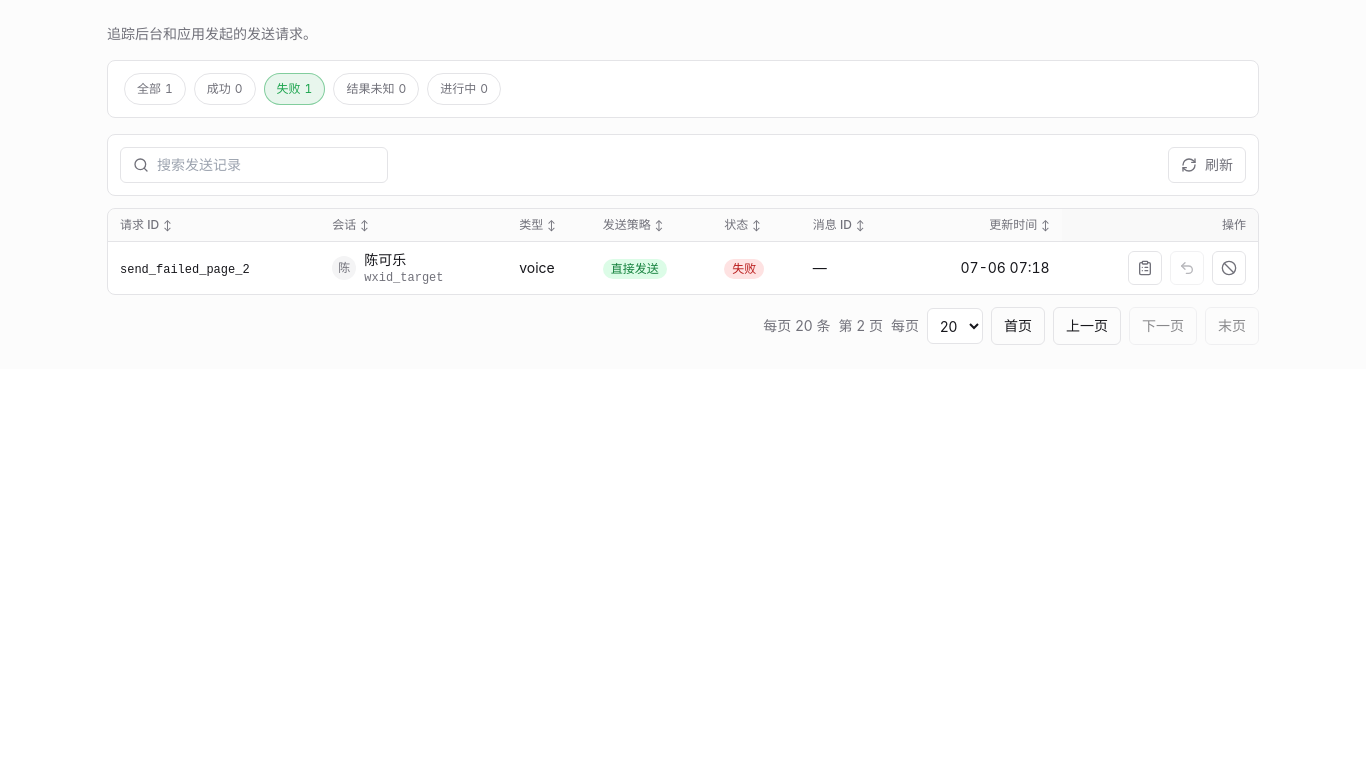
Test: AdminPage operations › 发送记录支持状态筛选、分页请求并同步 URL
The image size is (1366, 768).
Expected: the text "send_failed_page_2" is shown, [120,263,250,277]
Click the button "成功 0" at (225, 89), box [194,73,256,105]
(page scrolled)
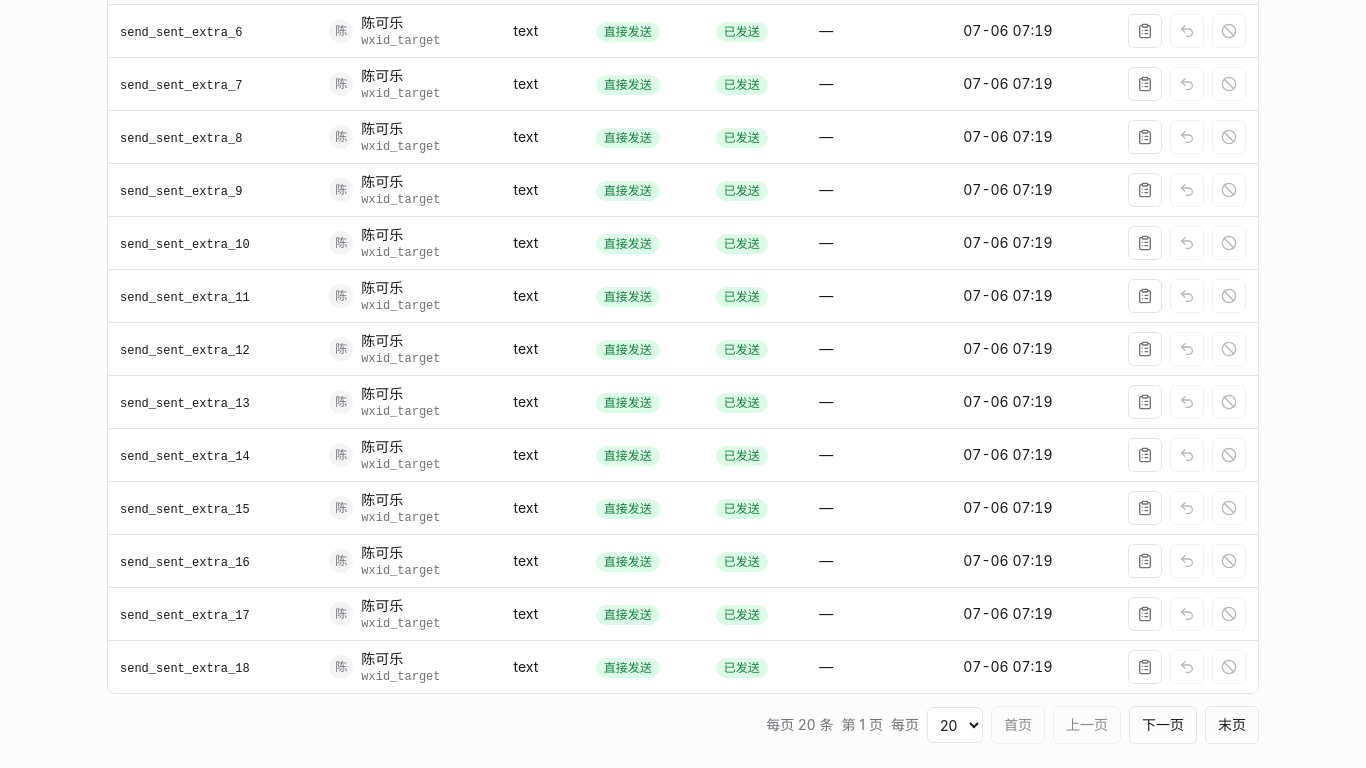
Click the button "下一页" at (1163, 725), box [1129,706,1197,744]
(page scrolled)
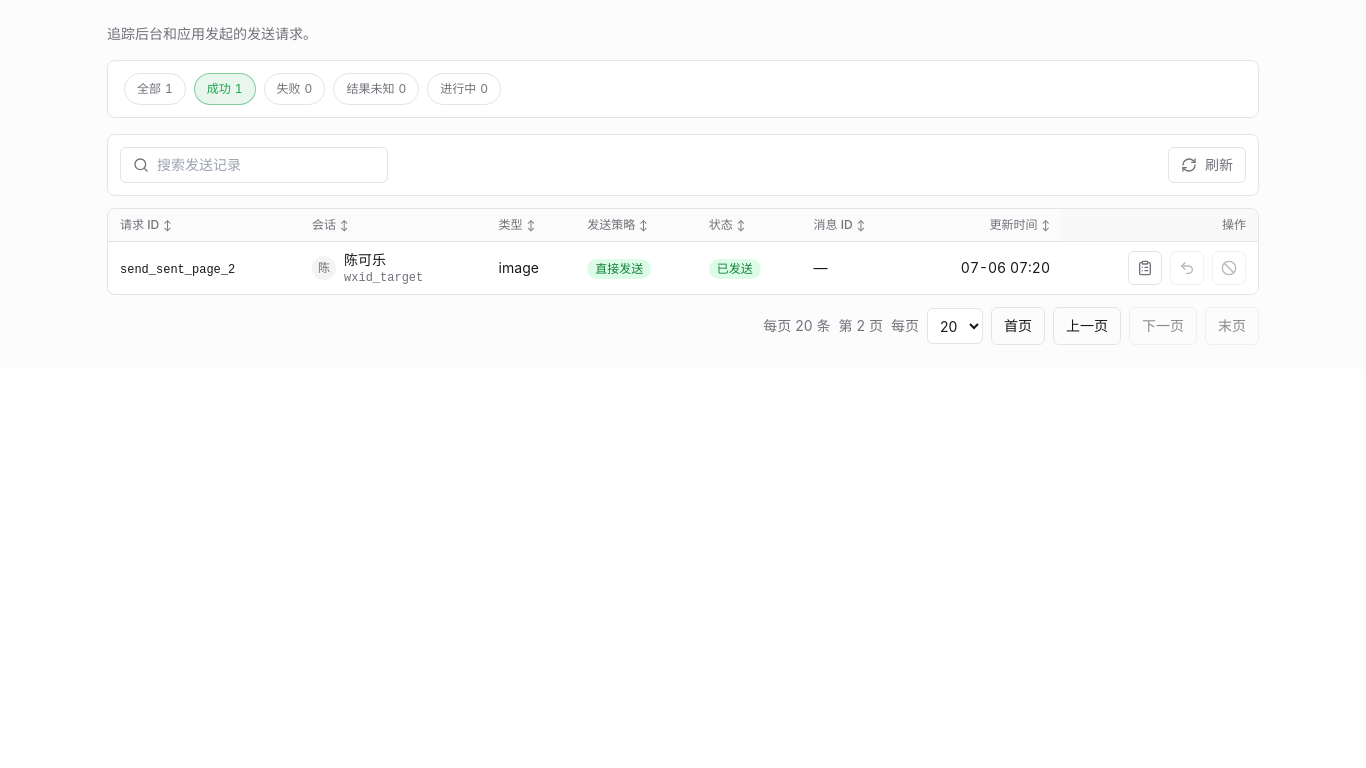
Expected: the text "send_sent_page_2" is shown, [120,263,235,277]
Select "50" in the dropdown named "每页数量" at (955, 326), box [927,308,983,344]
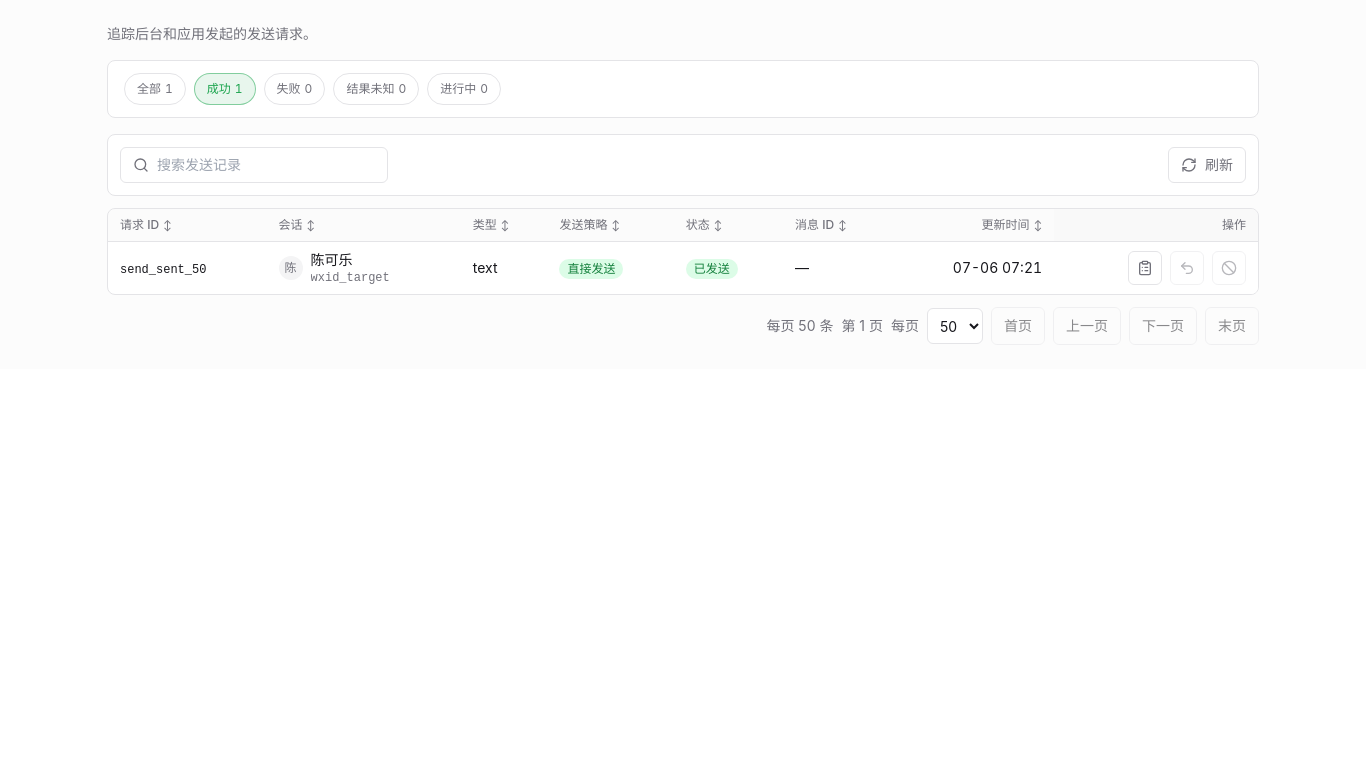
Expected: the text "send_sent_50" is shown, [120,263,206,277]
